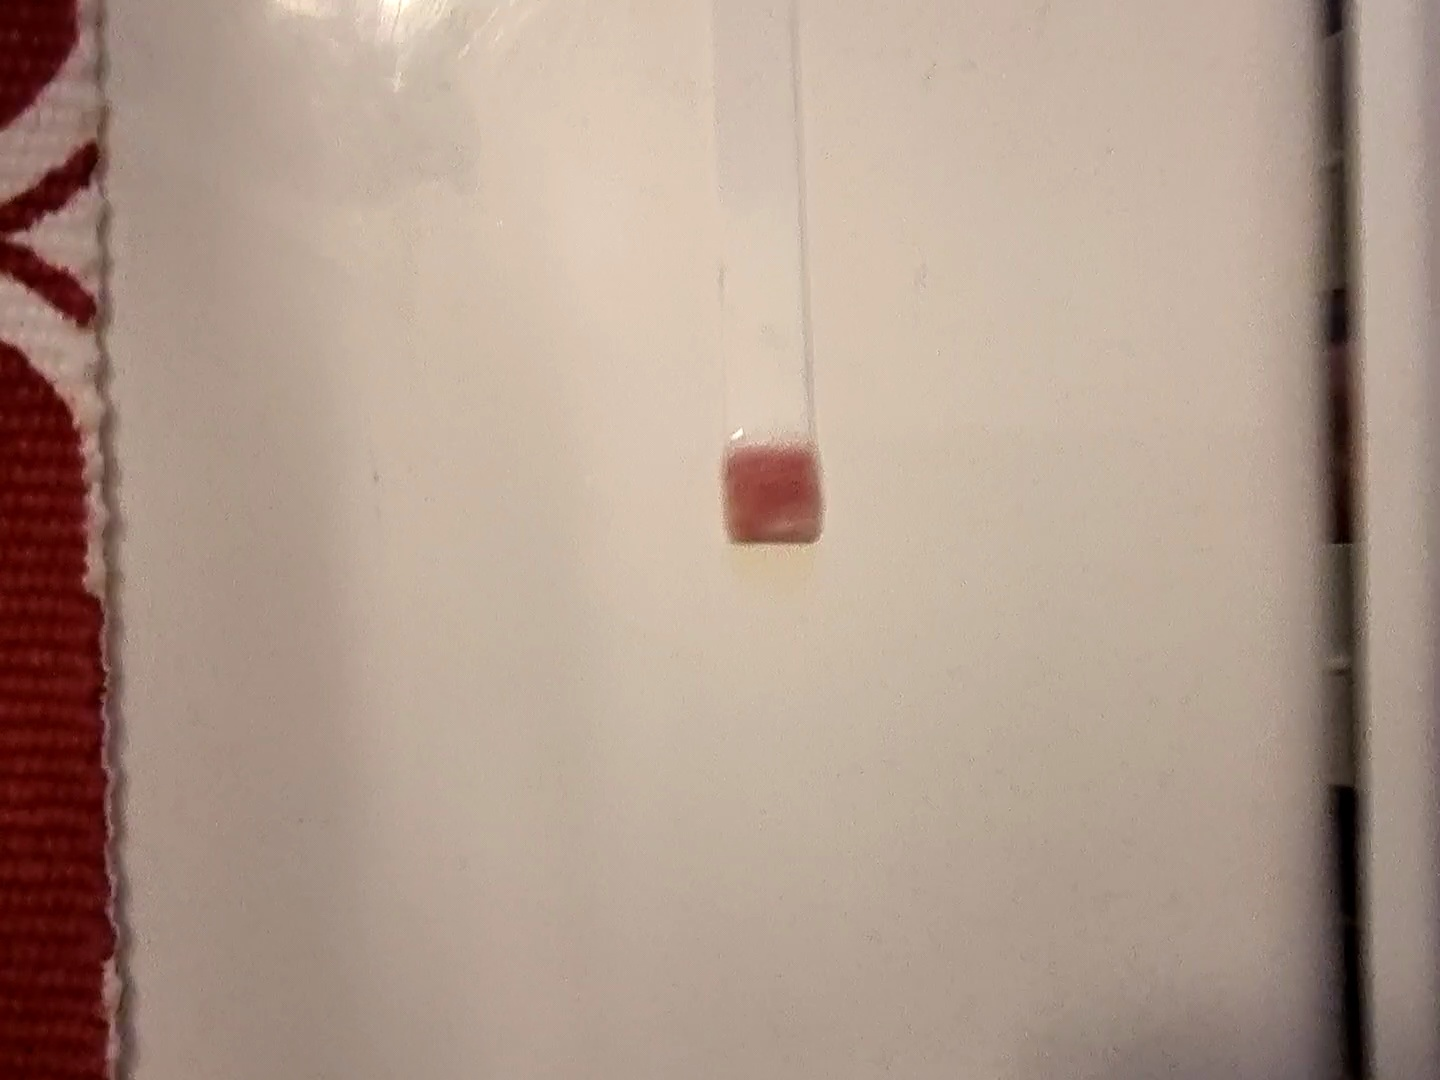keto-tip: (722, 441, 828, 550)
